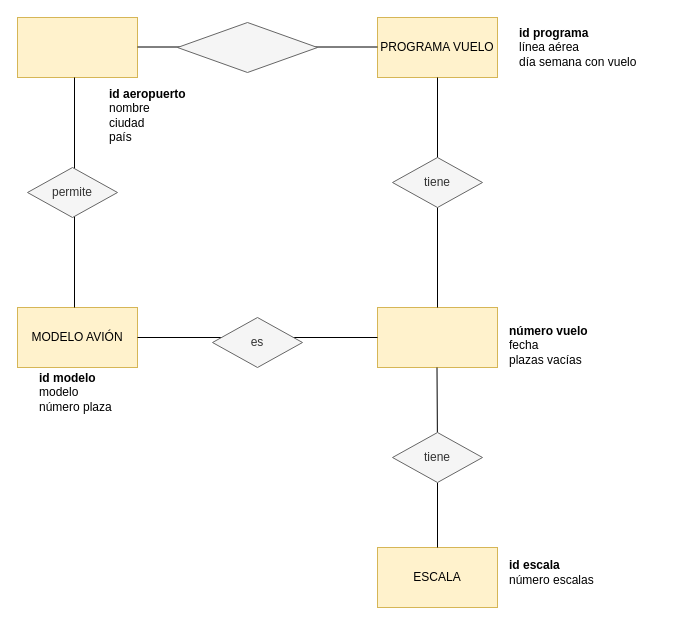
This 675x625 diagram has some shape labels left out. Each missing label, with the centre of its shape:
AEROPUERTO: (77,47)
despega y aterriza: (247,47)
VUELO: (437,337)
